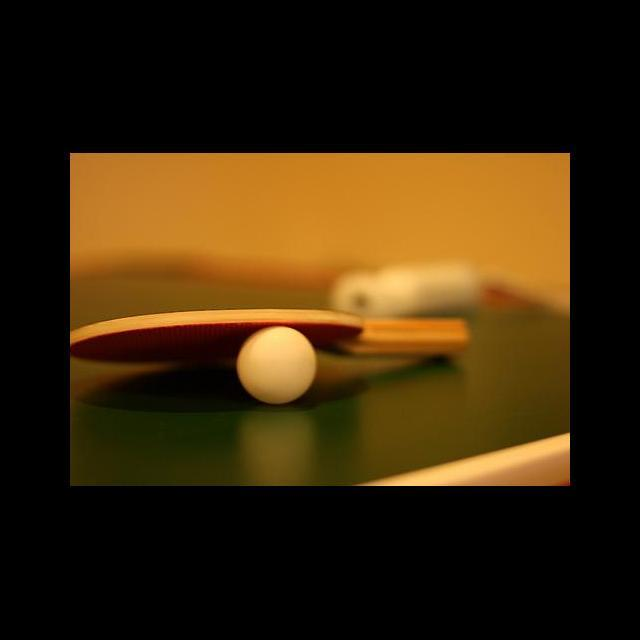ping-pong-ball: (238, 326, 316, 406)
